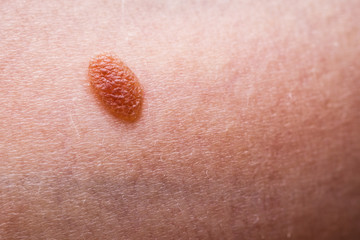melanoma: (69, 44, 177, 142)
